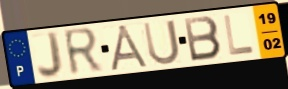A: (108, 23, 152, 72)
B: (181, 14, 223, 63)
J: (35, 30, 64, 80)
L: (222, 13, 257, 58)
R: (61, 26, 105, 79)
U: (141, 18, 182, 67)
